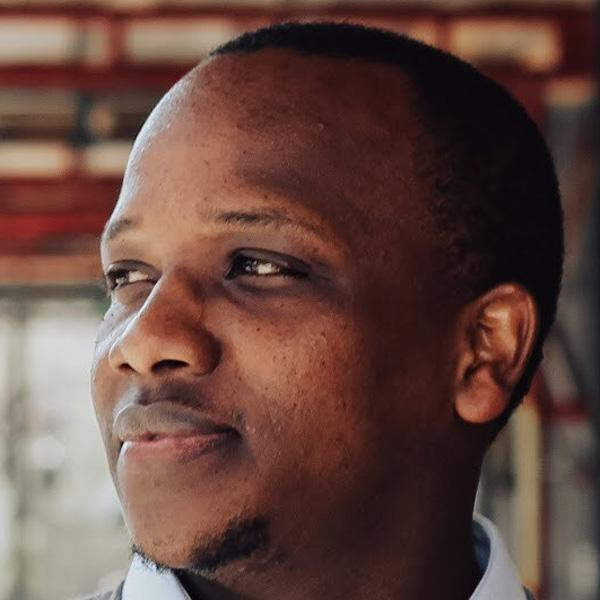Eyes: (212, 236, 311, 301), (99, 250, 168, 304)
